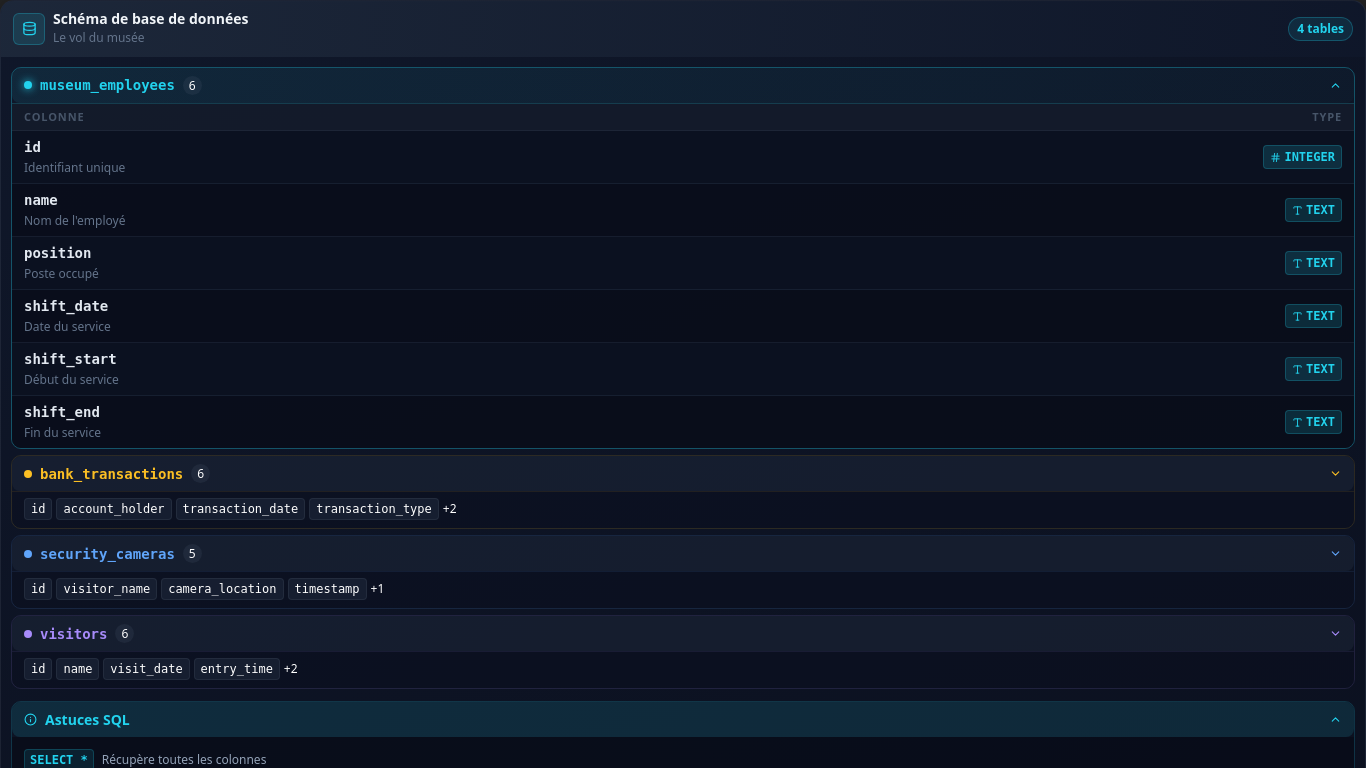
DatabaseSchema › opens a different table when clicking it
Click the button "visitors 6": (74, 634) [12,616,1354,651]
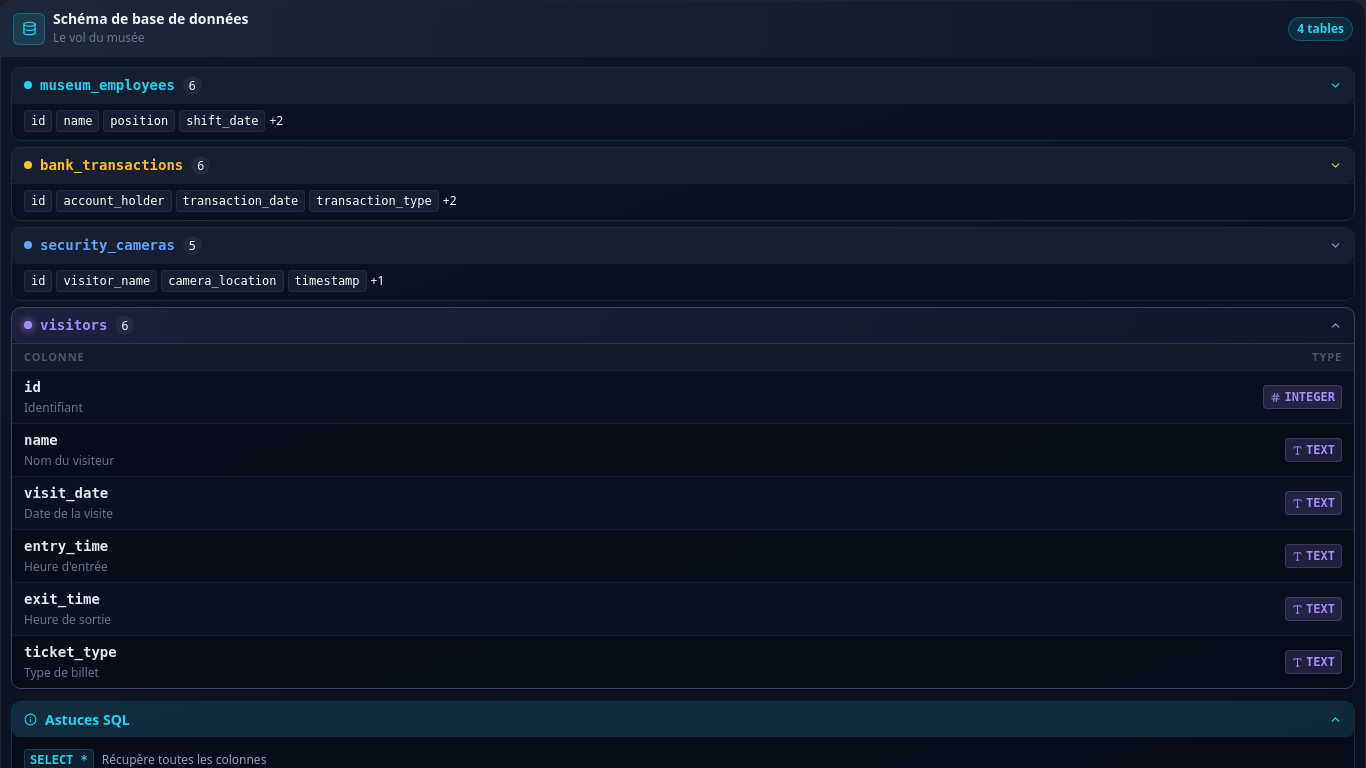
Expected: the text "visit_date" is shown, [24,485,108,501]
